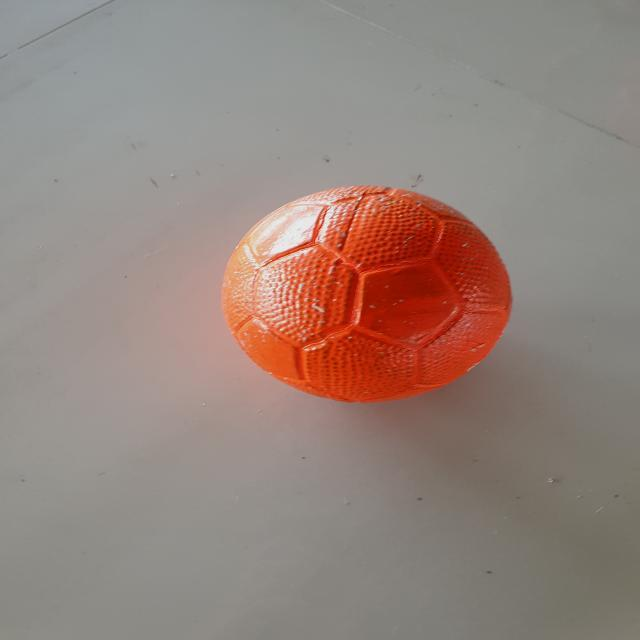bola: (220, 180, 519, 411)
